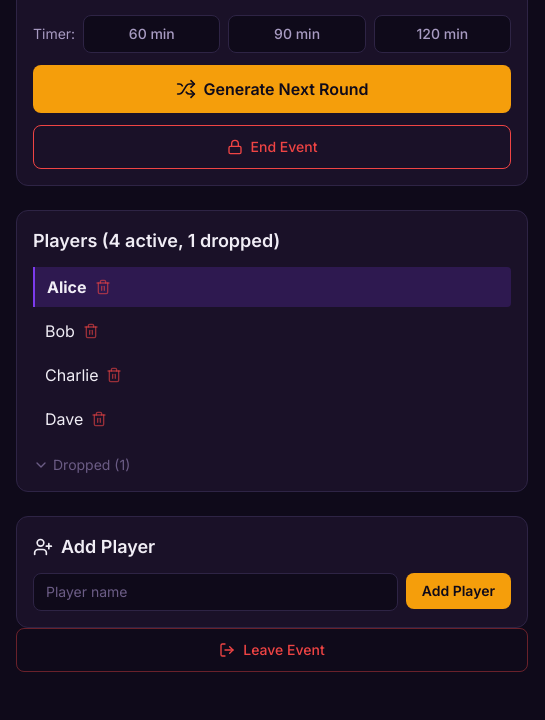
Admin Player Management › shows reactivate button for dropped players
This screenshot has width=545, height=720.
(page scrolled)
# Expand dropped section
Click the button with test id "player-list-dropped-toggle": (82, 465) [33,455,130,475]
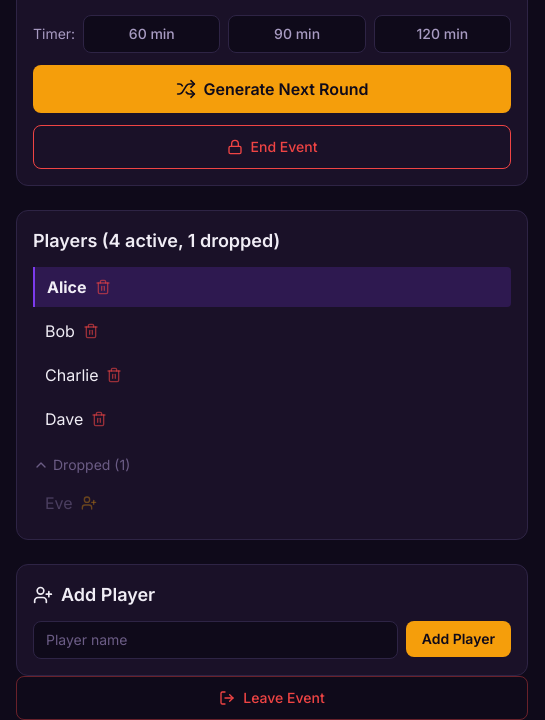
Check: the button with test id "admin-reactivate-player-player-5" is shown, box [81,495,97,511]
